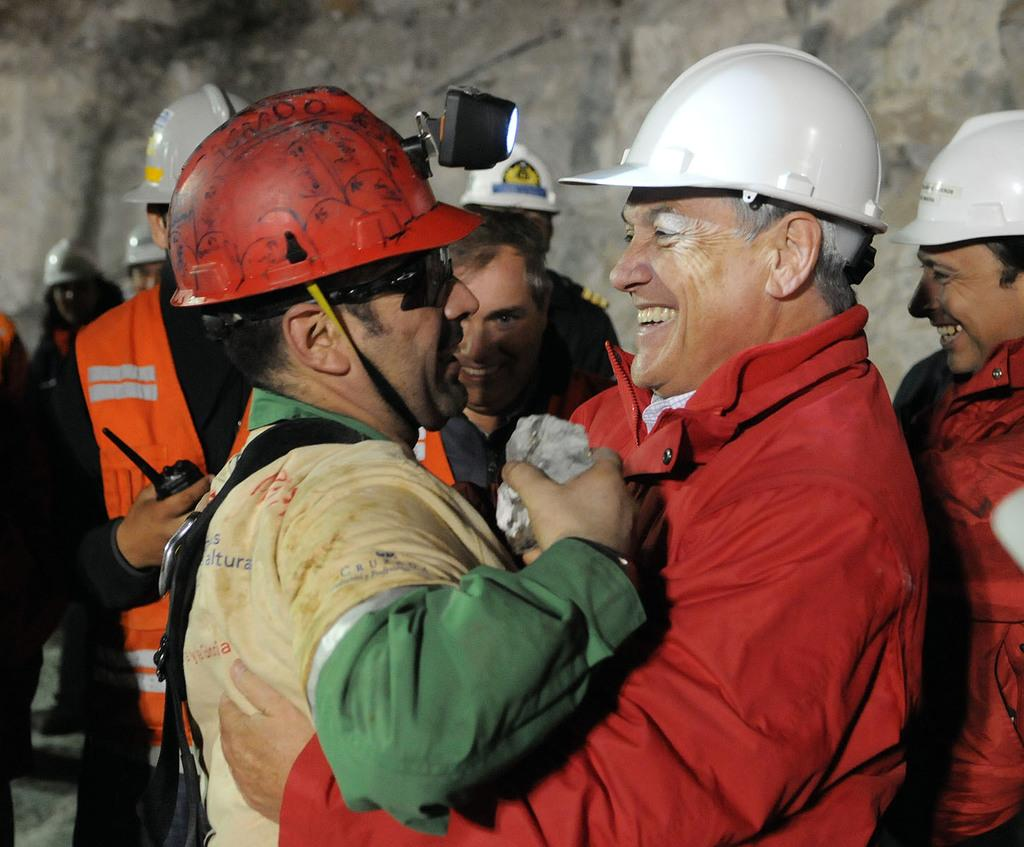helmet: (558, 42, 888, 385), (165, 85, 487, 418), (122, 83, 288, 306), (890, 109, 1024, 373), (459, 144, 561, 271), (123, 219, 189, 311), (42, 237, 105, 321)
nohelmet: (421, 206, 551, 410)
